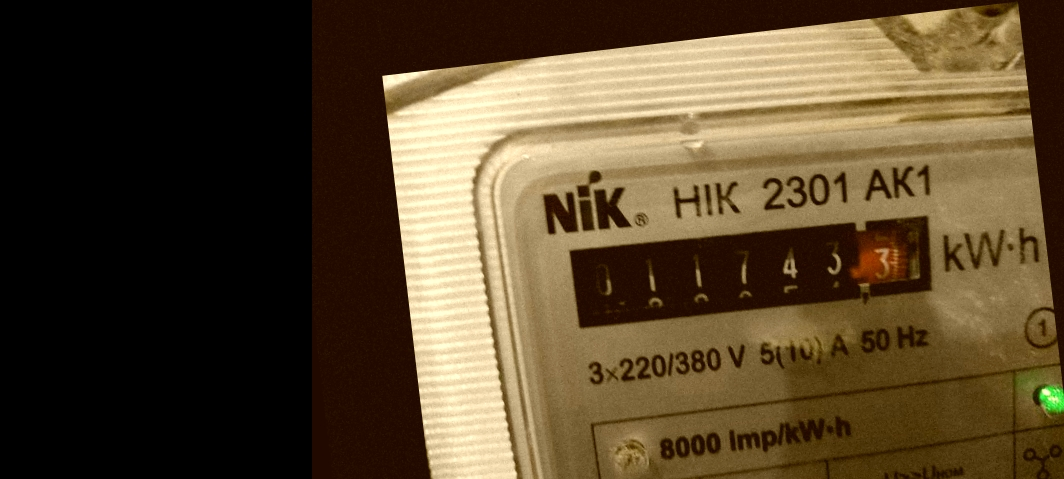0: (590, 259, 617, 300), (640, 252, 663, 295)
1: (687, 248, 707, 291)
3: (821, 235, 846, 280), (870, 242, 895, 282)
4: (776, 240, 801, 282)
7: (729, 242, 757, 289)
screen: (549, 194, 946, 345)
